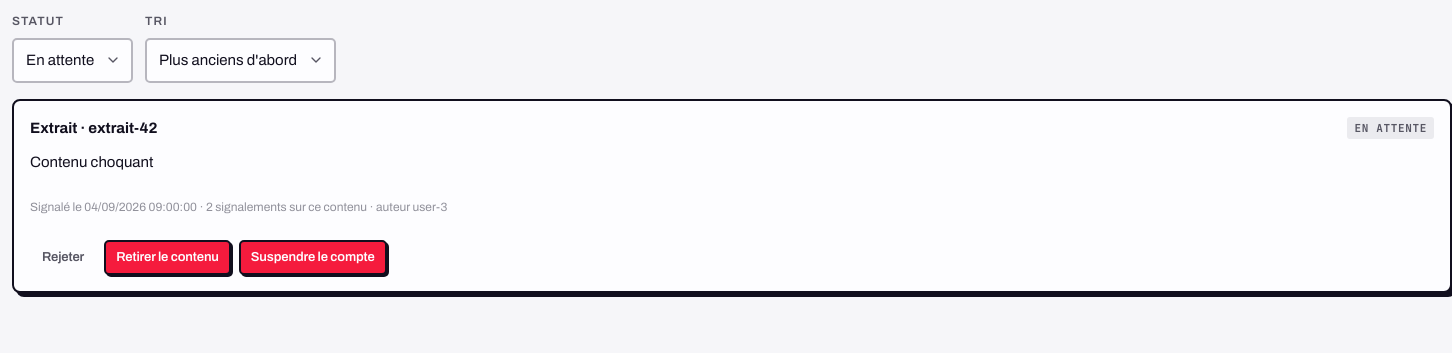
Test: ModerationDashboard › affiche l'erreur serveur si l'action échoue (ex. 409 déjà traité)
Click the button "Rejeter": (63, 257) [30,240,96,275]
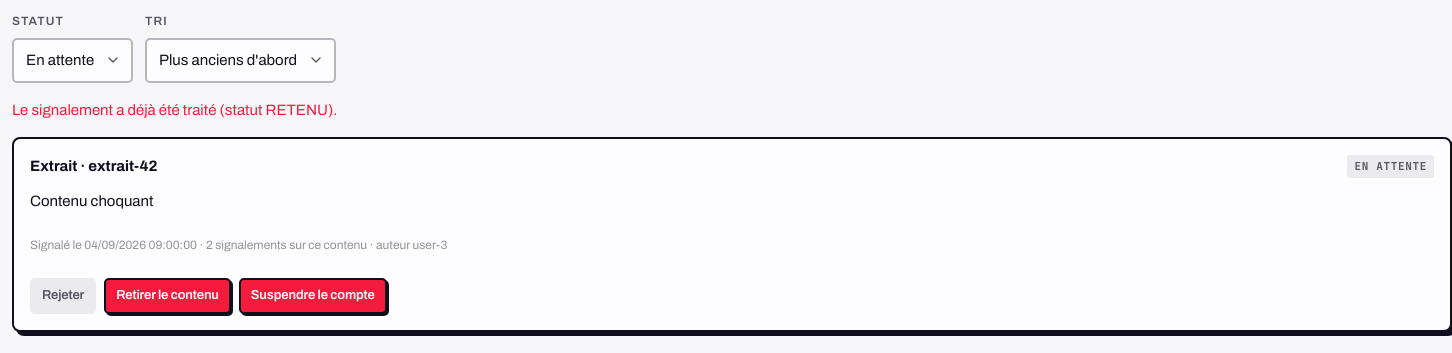
Result: the message shows "déjà été traité" at [12,102,337,118]
